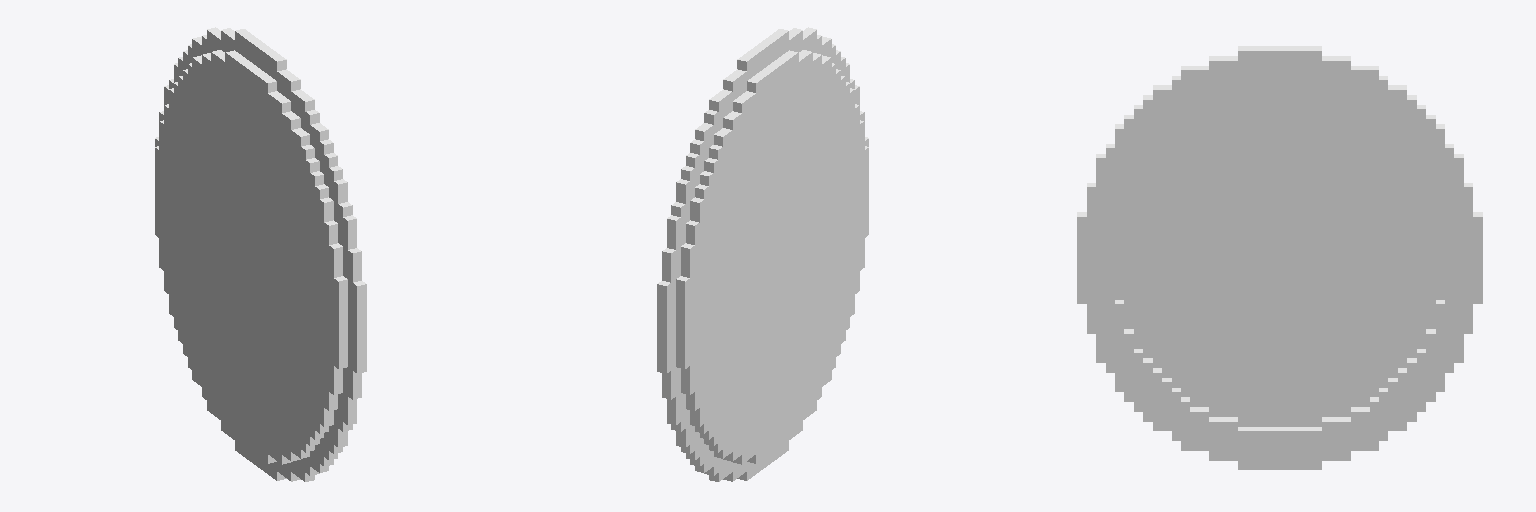
The model's file is wahing1.obj.
3 renders of one model, left to right at view 1: azimuth 30°, elevation 25°; view 2: azimuth 150°, elevation 25°; view 3: azimuth 270°, elevation 25°, orthographic.
Bounding box in the file's own units: 0.0265 × 0.5688 × 0.4982.